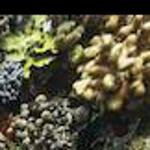alive: (1, 19, 147, 147)
